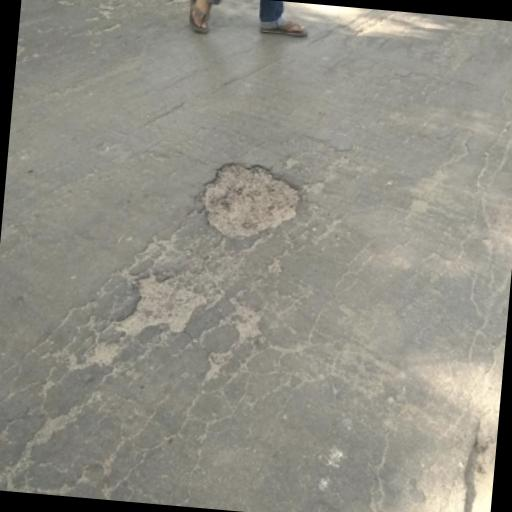pothole: (192, 156, 304, 244), (107, 268, 208, 340)
